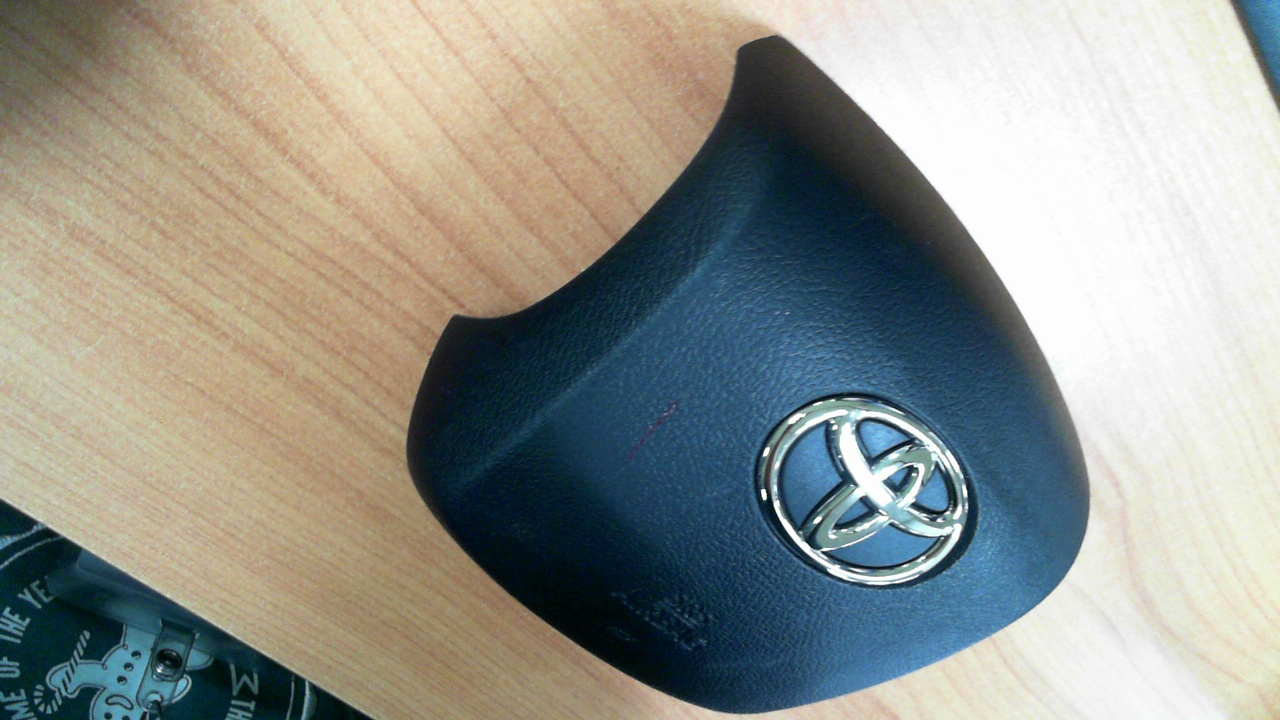Airbag: (404, 34, 1091, 718)
Toyota: (757, 397, 969, 586)
